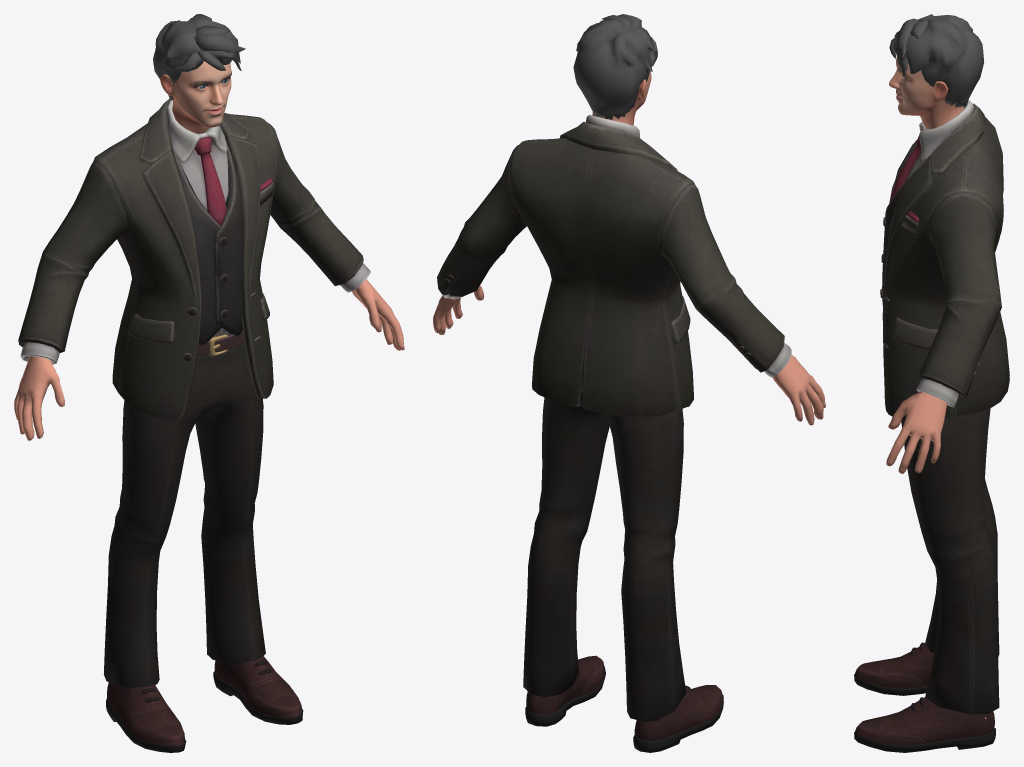
The model's file is avatar.gltf.
3 views of the same model, side by side, from view 1: azimuth 30°, elevation 25°; view 2: azimuth 150°, elevation 25°; view 3: azimuth 270°, elevation 25° (orthographic).
Parts seen in each view (by area): view 1: Wolf3D_Outfit_Top, Wolf3D_Outfit_Bottom, Wolf3D_Outfit_Footwear, Wolf3D_Hair, Wolf3D_Body, Wolf3D_Head; view 2: Wolf3D_Outfit_Top, Wolf3D_Outfit_Bottom, Wolf3D_Hair, Wolf3D_Outfit_Footwear, Wolf3D_Body; view 3: Wolf3D_Outfit_Top, Wolf3D_Outfit_Bottom, Wolf3D_Outfit_Footwear, Wolf3D_Hair, Wolf3D_Body, Wolf3D_Head.
Part boxes in pixels (x1=…): Wolf3D_Outfit_Top: x1=18, y1=99, x2=370, y2=420; Wolf3D_Outfit_Bottom: x1=103, y1=330, x2=265, y2=688; Wolf3D_Outfit_Footwear: x1=106, y1=655, x2=303, y2=752; Wolf3D_Hair: x1=153, y1=14, x2=245, y2=100; Wolf3D_Body: x1=14, y1=279, x2=404, y2=440; Wolf3D_Head: x1=160, y1=61, x2=231, y2=133; Wolf3D_Outfit_Top: x1=437, y1=114, x2=791, y2=417; Wolf3D_Outfit_Bottom: x1=523, y1=397, x2=686, y2=722; Wolf3D_Hair: x1=573, y1=14, x2=657, y2=119; Wolf3D_Outfit_Footwear: x1=525, y1=655, x2=723, y2=752; Wolf3D_Body: x1=433, y1=285, x2=825, y2=724; Wolf3D_Outfit_Top: x1=880, y1=100, x2=1009, y2=419; Wolf3D_Outfit_Bottom: x1=901, y1=408, x2=999, y2=714; Wolf3D_Outfit_Footwear: x1=854, y1=642, x2=995, y2=752; Wolf3D_Hair: x1=889, y1=14, x2=984, y2=107; Wolf3D_Body: x1=886, y1=391, x2=986, y2=718; Wolf3D_Head: x1=889, y1=57, x2=964, y2=129.
Bounding box in the file's own units: 1.06 × 1.86 × 0.3773.
Materials: 9 (9 with a texture image).
